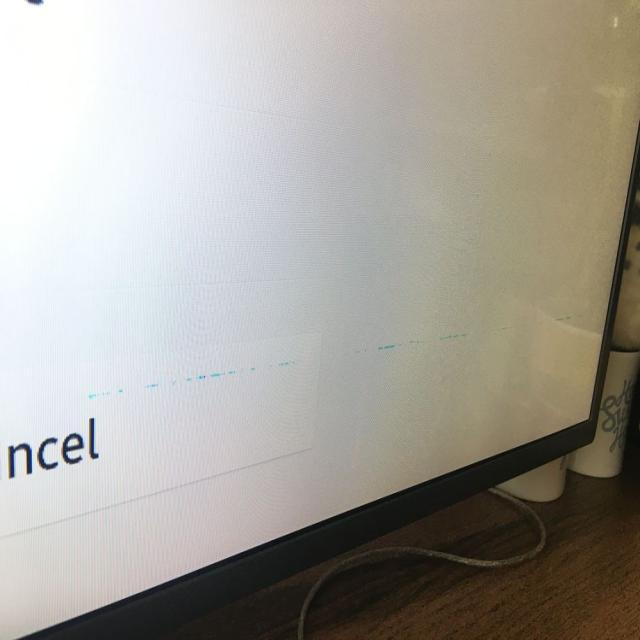electronics: (1, 0, 639, 637), (568, 350, 639, 476), (6, 417, 98, 478), (612, 187, 639, 349), (498, 455, 567, 499), (627, 384, 639, 443), (627, 392, 639, 444), (636, 165, 637, 170)
